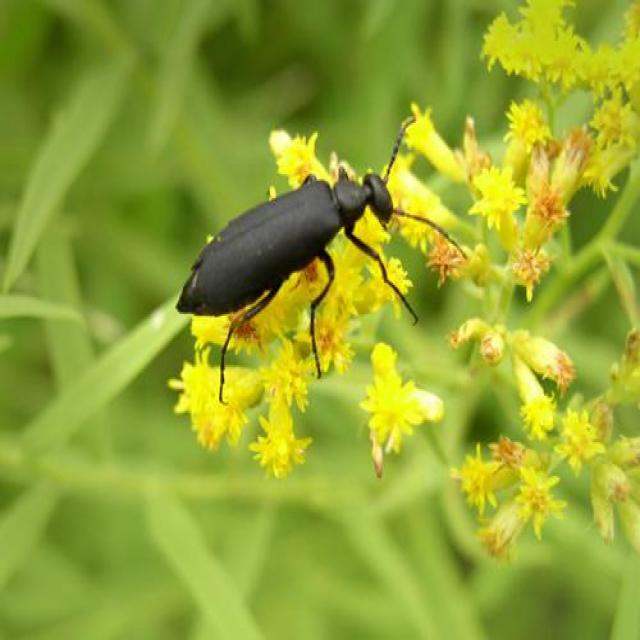BlisterBeetle-Adult-: (175, 116, 467, 410)
